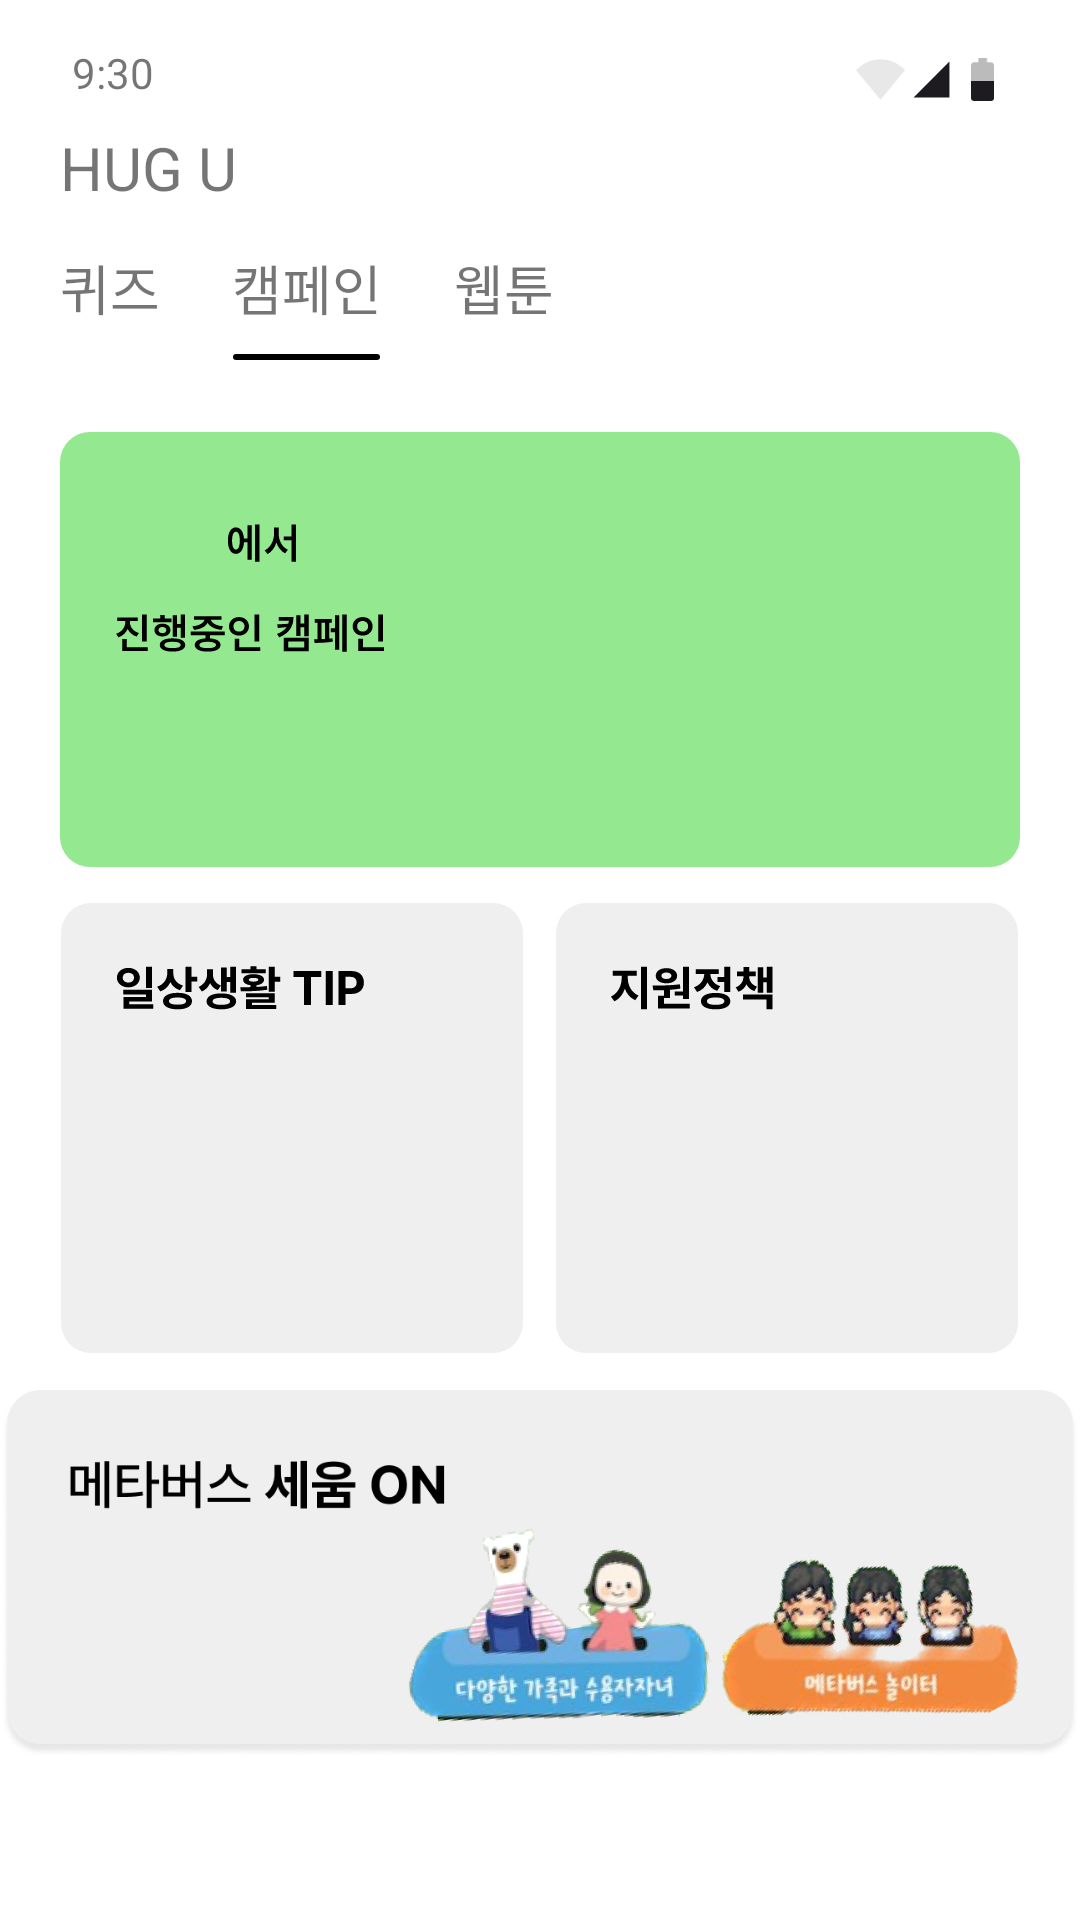

Where icons sit on this 1080x1920 app screen, as (x1, y1, x2, y2):
home quiz battery: (971, 58, 994, 101)
